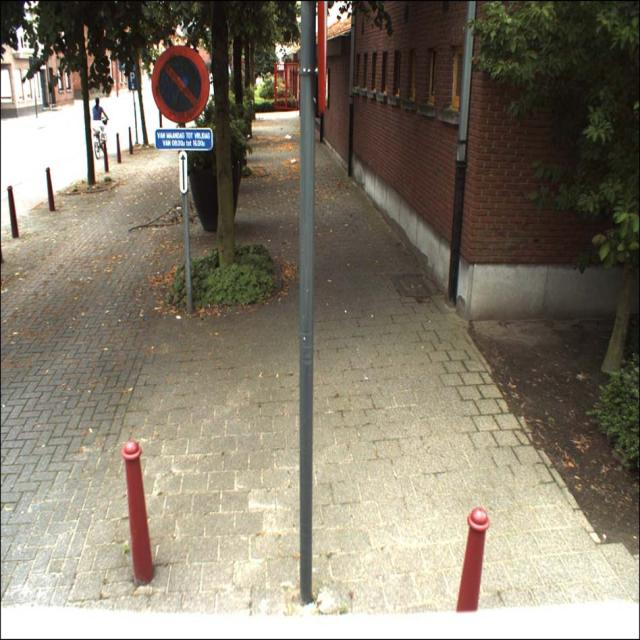park: (128, 70, 137, 84)
parkyasak: (152, 45, 205, 124)
